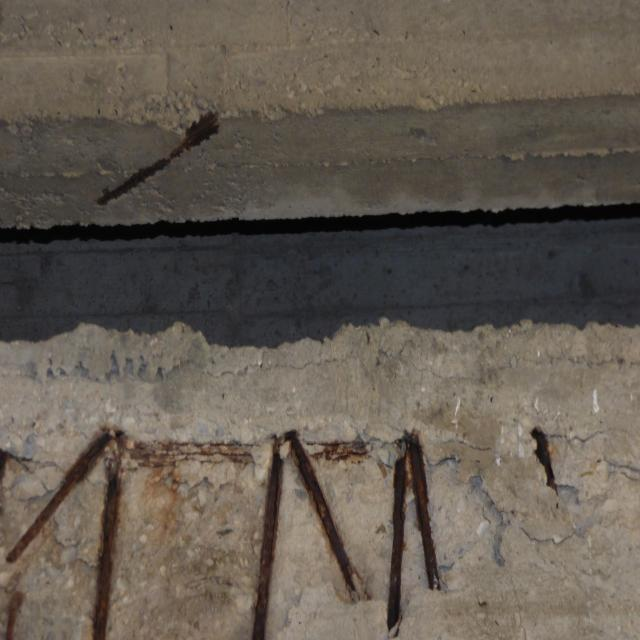corrosion: (0, 414, 448, 640), (92, 102, 226, 218), (521, 408, 572, 512)
